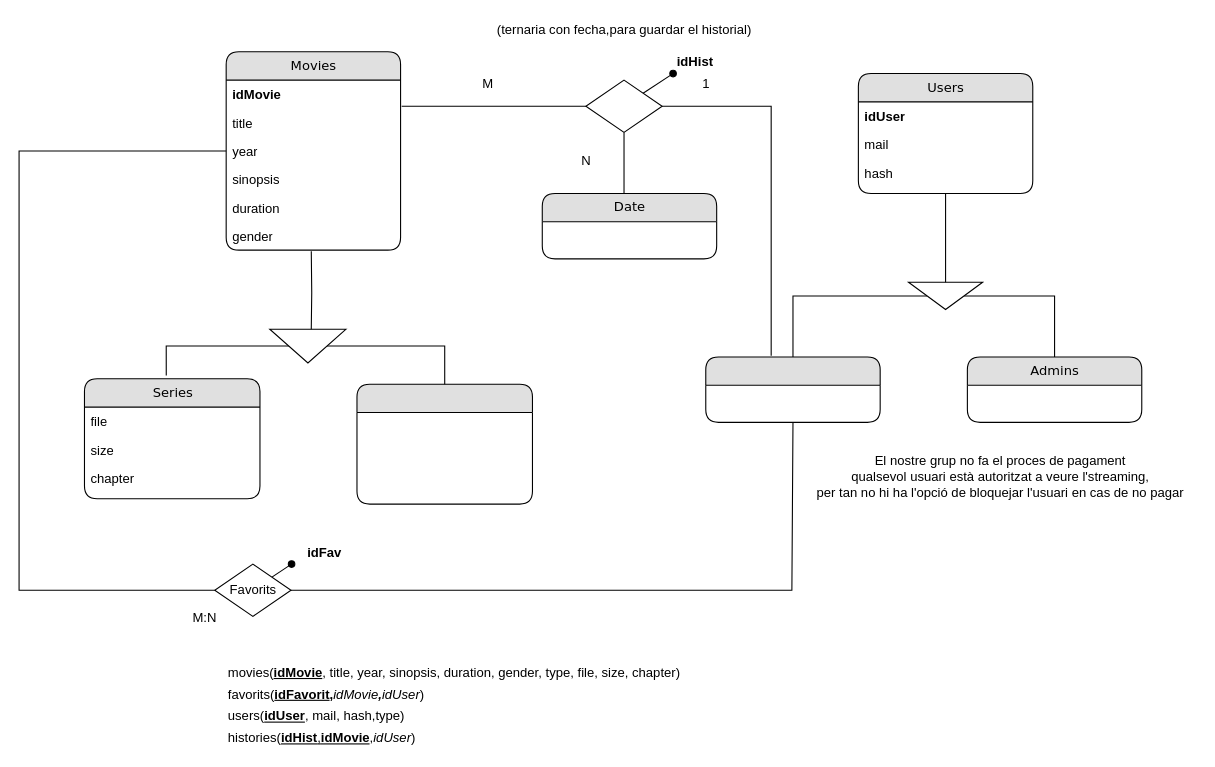
The diagram is 1215 pixels wide and 767 high, and some of its shapes have lost their labels. The shapes that lost their labels are listed below. From the top down, each one's centre as x and y in pixels, then its label:
At point (623, 105): "Histories".
At point (792, 389): "Clients".
At point (444, 443): "Movie".
